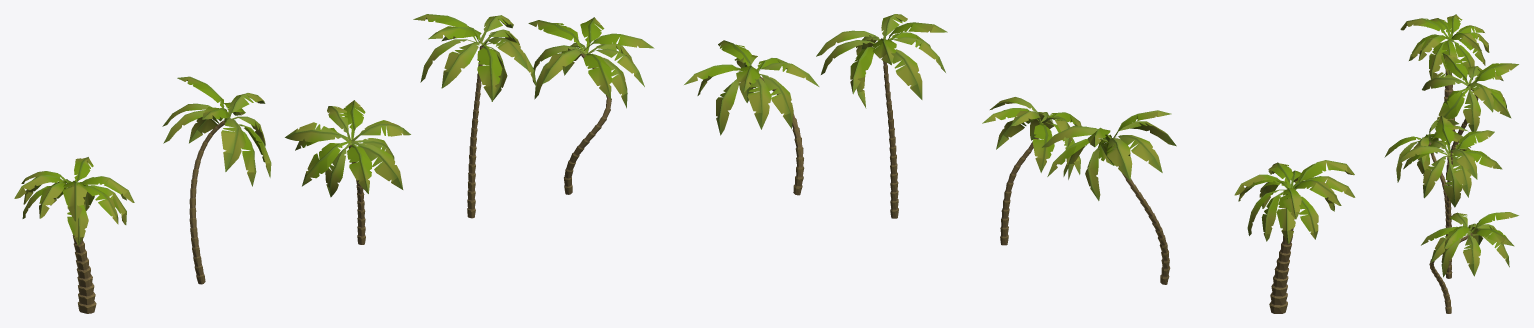
The model's file is PalmTrees.fbx.
3 renders of one model, left to right at view 1: azimuth 30°, elevation 25°; view 2: azimuth 150°, elevation 25°; view 3: azimuth 270°, elevation 25°, orthographic. The views are drawn at different scales.
Visible parts, largest first — view 1: Cylinder.003, Cylinder.004, Cylinder.002, Plane.015, Plane.002, Plane.025, Plane.016, Cylinder.005, Plane.004, Plane.009, Plane.047, Plane.007 (+16 smaller); view 2: Cylinder.004, Cylinder.002, Cylinder.003, Plane.017, Plane.049, Cylinder.001, Plane.048, Plane.027, Plane.026, Plane.005, Plane.050, Cylinder.005 (+8 smaller); view 3: Plane.023, Plane.014, Plane.013, Plane.029, Plane.045, Plane.030, Plane.025, Plane.018, Plane.020, Plane.019, Plane.022, Plane.032 (+38 smaller).
Part boxes in pixels (bbox=[...]): Cylinder.003: bbox=[189, 120, 225, 284]; Cylinder.004: bbox=[72, 235, 96, 313]; Cylinder.002: bbox=[467, 45, 483, 218]; Plane.015: bbox=[477, 44, 502, 101]; Plane.002: bbox=[350, 140, 403, 189]; Plane.025: bbox=[221, 118, 245, 171]; Plane.016: bbox=[441, 41, 483, 88]; Cylinder.005: bbox=[564, 53, 611, 194]; Plane.004: bbox=[302, 140, 351, 186]; Plane.009: bbox=[347, 144, 371, 193]; Plane.047: bbox=[583, 53, 611, 99]; Plane.007: bbox=[285, 122, 348, 142]; Cylinder.004: bbox=[1269, 228, 1293, 313]; Cylinder.002: bbox=[883, 61, 898, 218]; Cylinder.003: bbox=[1111, 145, 1170, 284]; Plane.017: bbox=[891, 49, 922, 99]; Plane.049: bbox=[747, 77, 771, 129]; Cylinder.001: bbox=[1000, 137, 1038, 245]; Plane.048: bbox=[759, 74, 793, 128]; Plane.027: bbox=[1107, 138, 1132, 180]; Plane.026: bbox=[1118, 135, 1162, 172]; Plane.005: bbox=[1032, 122, 1054, 172]; Plane.050: bbox=[716, 79, 739, 135]; Cylinder.005: bbox=[759, 77, 804, 195]; Plane.023: bbox=[1463, 87, 1480, 131]; Plane.014: bbox=[1423, 155, 1449, 198]; Plane.013: bbox=[1444, 156, 1461, 207]; Plane.029: bbox=[1435, 88, 1468, 128]; Plane.045: bbox=[1463, 235, 1480, 276]; Plane.030: bbox=[1475, 63, 1518, 82]; Plane.025: bbox=[1422, 72, 1469, 90]; Plane.018: bbox=[1451, 156, 1471, 197]; Plane.020: bbox=[1452, 130, 1494, 155]; Plane.019: bbox=[1435, 116, 1454, 154]; Plane.022: bbox=[1449, 149, 1477, 179]; Plane.032: bbox=[1442, 53, 1468, 83].
Bounding box in the file's own units: 8301 × 2493 × 2052.
